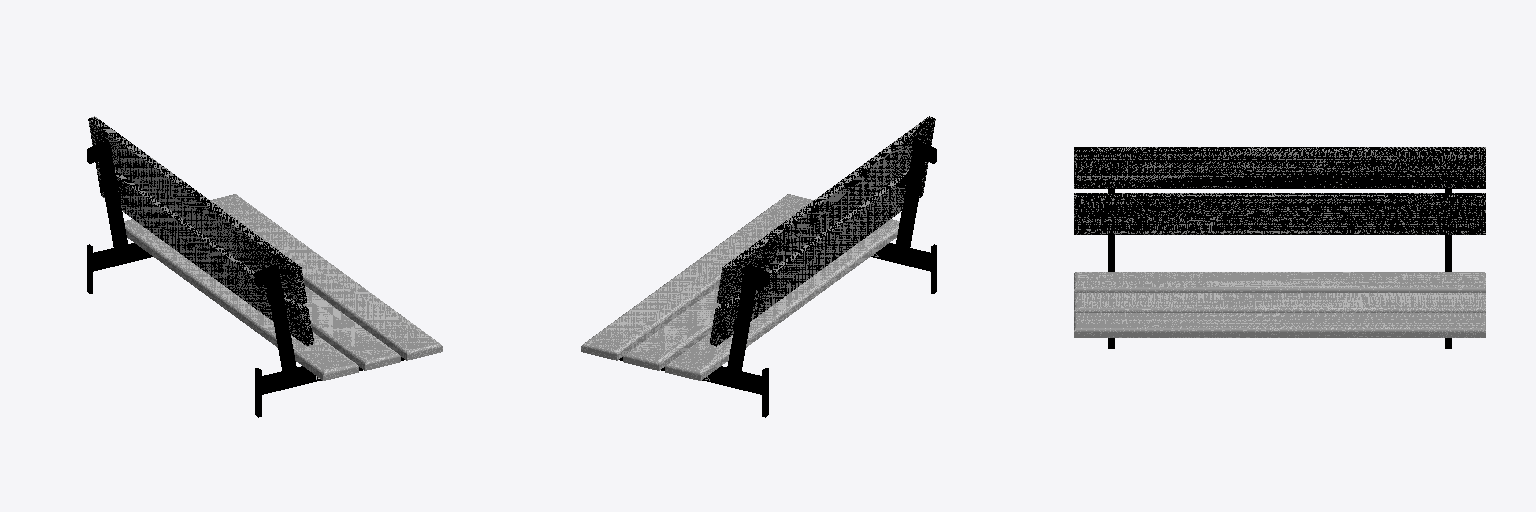
3 views of the same model, side by side, from view 1: azimuth 30°, elevation 25°; view 2: azimuth 150°, elevation 25°; view 3: azimuth 270°, elevation 25° (orthographic).
Visible parts, largest first — view 1: mesh5.001_mesh5-geometry, mesh9.001_mesh9-geometry, mesh6.001_mesh6-geometry, mesh8.001_mesh8-geometry, mesh7.001_mesh7-geometry, mesh1.001_mesh1-geometry, mesh3.001_mesh3-geometry, mesh11.003_mesh11-geometry, mesh11.004_mesh11-geometry; view 2: mesh5.001_mesh5-geometry, mesh9.001_mesh9-geometry, mesh6.001_mesh6-geometry, mesh8.001_mesh8-geometry, mesh7.001_mesh7-geometry, mesh3.001_mesh3-geometry, mesh1.001_mesh1-geometry, mesh11.004_mesh11-geometry, mesh11.003_mesh11-geometry; view 3: mesh5.001_mesh5-geometry, mesh6.001_mesh6-geometry, mesh9.001_mesh9-geometry, mesh8.001_mesh8-geometry, mesh7.001_mesh7-geometry.
Boxes of the visible parts, box(x1,y1,x2,y2) form: mesh5.001_mesh5-geometry: box(88, 116, 306, 304); mesh9.001_mesh9-geometry: box(210, 194, 442, 360); mesh6.001_mesh6-geometry: box(95, 161, 313, 346); mesh8.001_mesh8-geometry: box(124, 219, 358, 380); mesh7.001_mesh7-geometry: box(303, 286, 400, 370); mesh1.001_mesh1-geometry: box(255, 264, 296, 373); mesh3.001_mesh3-geometry: box(87, 140, 128, 249); mesh11.003_mesh11-geometry: box(255, 357, 404, 417); mesh11.004_mesh11-geometry: box(87, 243, 152, 293); mesh5.001_mesh5-geometry: box(717, 116, 935, 304); mesh9.001_mesh9-geometry: box(581, 194, 813, 360); mesh6.001_mesh6-geometry: box(710, 161, 928, 346); mesh8.001_mesh8-geometry: box(665, 219, 899, 380); mesh7.001_mesh7-geometry: box(623, 286, 720, 370); mesh3.001_mesh3-geometry: box(727, 264, 768, 373); mesh1.001_mesh1-geometry: box(895, 140, 936, 249); mesh11.004_mesh11-geometry: box(619, 357, 768, 417); mesh11.003_mesh11-geometry: box(871, 243, 936, 293); mesh5.001_mesh5-geometry: box(1074, 147, 1485, 188); mesh6.001_mesh6-geometry: box(1074, 193, 1485, 234); mesh9.001_mesh9-geometry: box(1074, 313, 1485, 337); mesh8.001_mesh8-geometry: box(1074, 272, 1485, 292); mesh7.001_mesh7-geometry: box(1074, 293, 1485, 312).
Size of the model in its own units: 0.3953 by 0.355 by 0.8472.
5 materials, 1 textured.